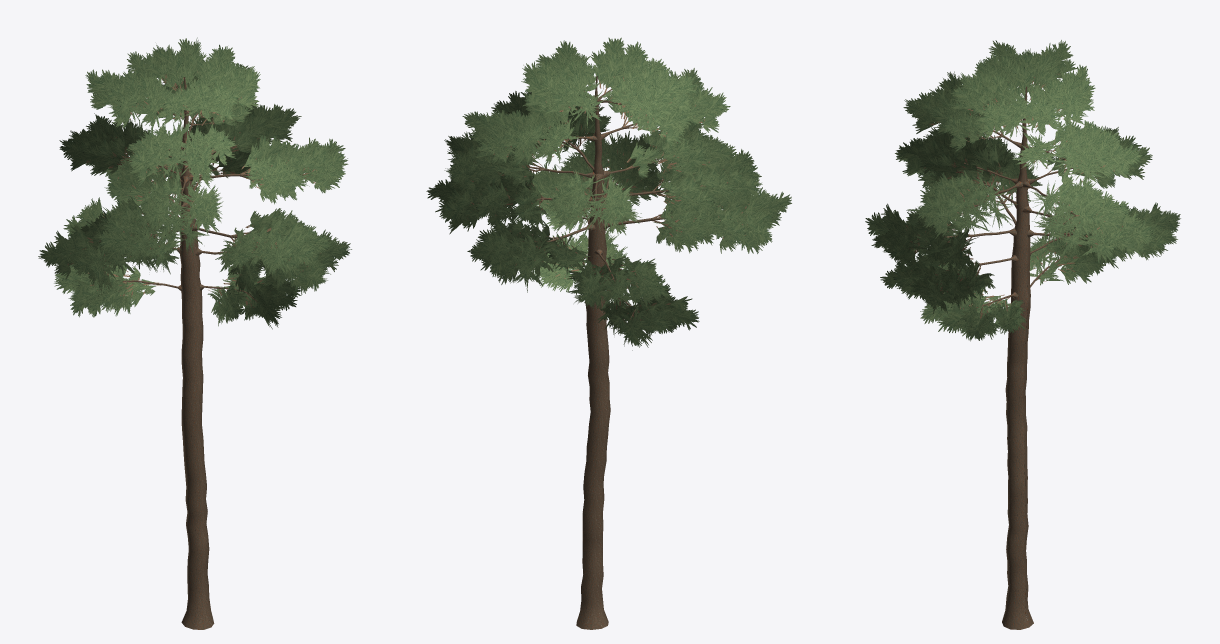
The model's file is Scenery_Pine.fbx.
3 views of the same model, side by side, from view 1: azimuth 30°, elevation 25°; view 2: azimuth 150°, elevation 25°; view 3: azimuth 270°, elevation 25° (orthographic). The views are drawn at different scales.
Parts seen in each view (by area): view 1: Scenery_Pine_LOD0; view 2: Scenery_Pine_LOD0; view 3: Scenery_Pine_LOD0.
Boxes of the visible parts, bbox=[...] form: Scenery_Pine_LOD0: bbox=[38, 37, 351, 629]; Scenery_Pine_LOD0: bbox=[426, 37, 791, 629]; Scenery_Pine_LOD0: bbox=[865, 40, 1180, 629].
Size of what is drawn, in the model's own units: 11.11 by 18.83 by 10.87.
